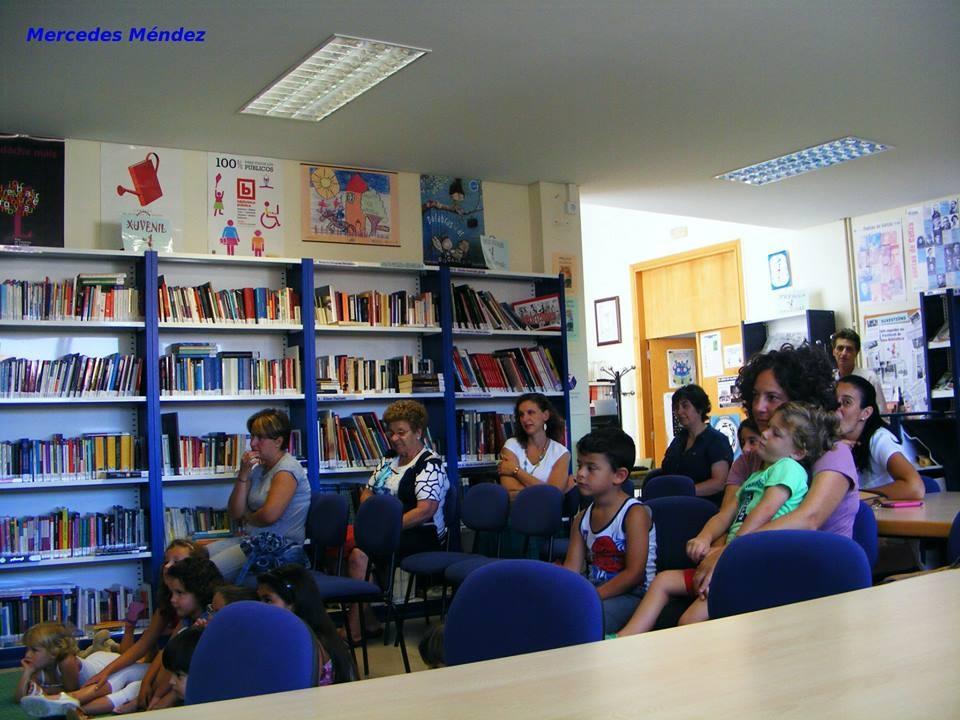Rak: (0, 245, 157, 655), (157, 255, 314, 551), (314, 261, 454, 491), (442, 259, 571, 485)
